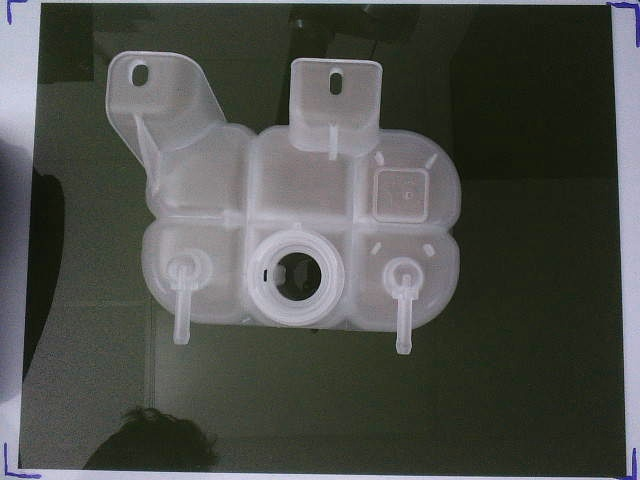reservoir_transparent_Top: (106, 50, 462, 355)
